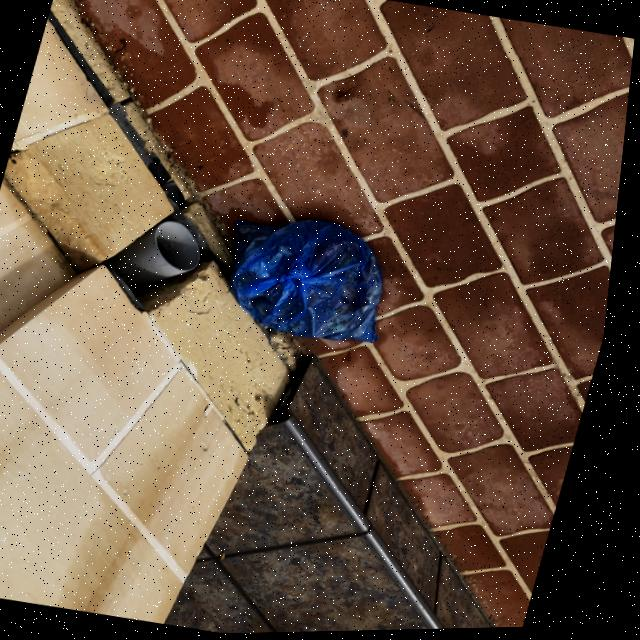Other: (207, 191, 416, 363)
